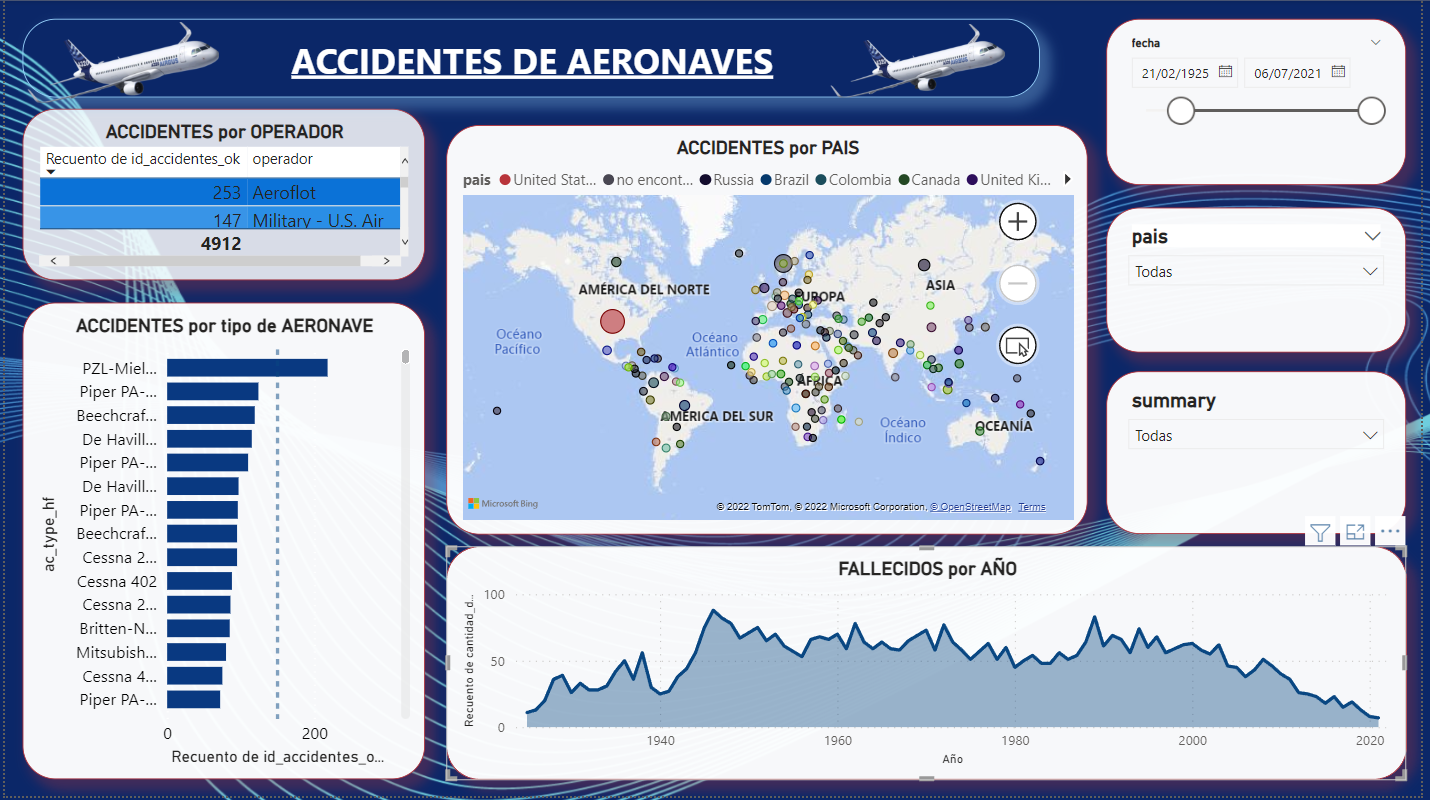

The dashboard page shown, as its layout file describes it:
{"tool":"powerbi","page":{"name":"Accidente de Aeronaves","canvas":[1280,720],"ordinal":1},"visuals":[{"type":"tableEx","title":"ACCIDENTES por OPERADOR","fields":{"Values":["CountNonNull(avionesdb accidentes_ok.id_accidentes_ok)","avionesdb accidentes_ok.operador"]},"box":[16.2,98.8,363.8,155],"z":0},{"type":"map","title":"ACCIDENTES por PAIS","fields":{"Size":["CountNonNull(avionesdb accidentes_ok.id_accidentes_ok)"],"Category":["avionesdb accidentes_ok.pais"],"Series":["avionesdb accidentes_ok.pais"]},"box":[398.8,112.5,580,370],"z":1000},{"type":"barChart","title":"ACCIDENTES por tipo de AERONAVE","fields":{"Category":["avionesdb humanfactor_ok.ac_type_hf"],"Y":["CountNonNull(avionesdb humanfactor_ok.id_accidentes_ok_fk)"]},"box":[16.2,273.8,363.8,431.2],"z":2000},{"type":"stackedAreaChart","title":"FALLECIDOS por AÑO","fields":{"Category":["avionesdb accidentes_ok.fecha.Variación.Jerarquía de fechas.Año"],"Y":["CountNonNull(avionesdb accidentes_ok.cantidad_de_fallecidos)"]},"box":[398.8,493.8,868.8,211.2],"z":3000},{"type":"slicer","fields":{"Values":["avionesdb accidentes_ok.pais"]},"box":[995.8,187.6,271.3,131.1],"z":4000},{"type":"slicer","fields":{"Values":["avionesdb accidentes_ok.fecha"]},"box":[995.8,17,271.3,150.3],"z":5000},{"type":"slicer","fields":{"Values":["avionesdb accidentes_ok.summary"]},"box":[995.8,335.7,271.3,146.9],"z":6000},{"type":"textbox","box":[16.2,17.5,920,71.2],"z":7000},{"type":"image","box":[16.2,0,182.5,112.5],"z":8000},{"type":"image","box":[696.2,17.5,258.8,76.2],"z":9000}]}

Visuals, with their boxes in screenshot pixels (x1, y1, x2, y2), scaled from the page's 1280x720 canvas onto the 1430x800 screenshot:
"ACCIDENTES por OPERADOR" tableEx: (x1=18, y1=110, x2=425, y2=282)
"ACCIDENTES por PAIS" map: (x1=446, y1=125, x2=1094, y2=536)
"ACCIDENTES por tipo de AERONAVE" barChart: (x1=18, y1=304, x2=425, y2=783)
"FALLECIDOS por AÑO" stackedAreaChart: (x1=446, y1=549, x2=1416, y2=783)
slicer - avionesdb accidentes_ok.pais: (x1=1112, y1=208, x2=1416, y2=354)
slicer - avionesdb accidentes_ok.fecha: (x1=1112, y1=19, x2=1416, y2=186)
slicer - avionesdb accidentes_ok.summary: (x1=1112, y1=373, x2=1416, y2=536)
textbox: (x1=18, y1=19, x2=1046, y2=99)
image: (x1=18, y1=0, x2=222, y2=125)
image: (x1=778, y1=19, x2=1067, y2=104)
